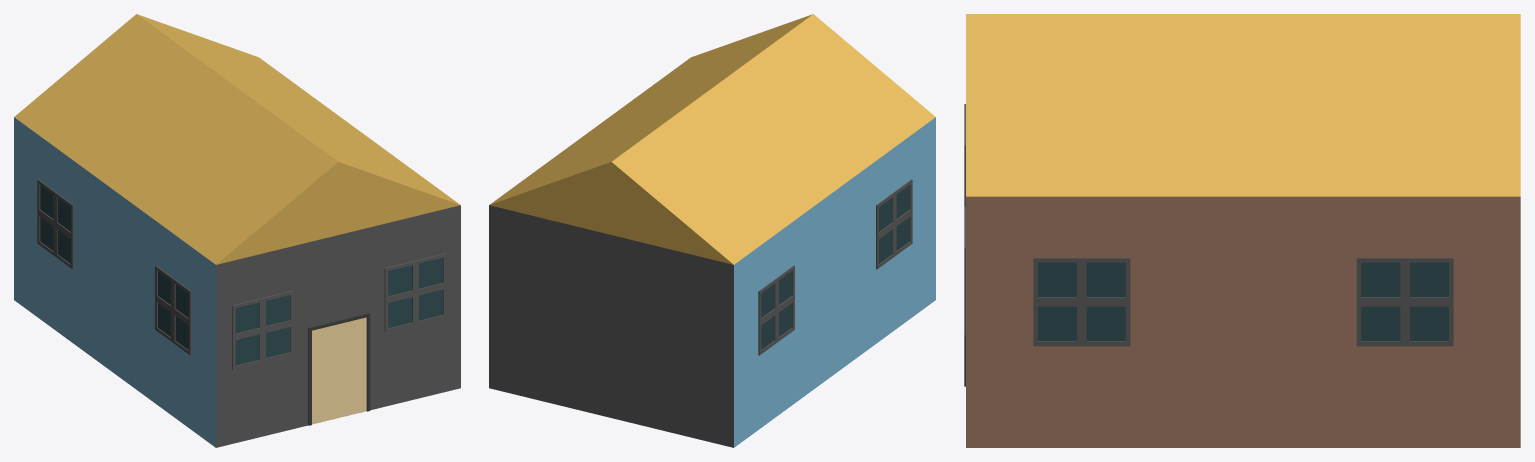
Rendered from House3_Model.fbx.
The picture shows the model from 3 angles, left to right: view 1: azimuth 30°, elevation 25°; view 2: azimuth 150°, elevation 25°; view 3: azimuth 270°, elevation 25°; orthographic projection. The views are drawn at different scales.
Parts seen in each view (by area): view 1: Roof.001, House_wall_Right.001, House_wall_front.001; view 2: Roof.001, House_wall_Left.001, House_wall_front.001; view 3: House_wall_back.001, Roof.001, House_wall_Right.001.
Part boxes in pixels (bbox=[...]): Roof.001: bbox=[14, 14, 460, 264]; House_wall_Right.001: bbox=[216, 205, 460, 447]; House_wall_front.001: bbox=[14, 117, 215, 447]; Roof.001: bbox=[489, 14, 935, 264]; House_wall_Left.001: bbox=[489, 205, 733, 447]; House_wall_front.001: bbox=[734, 117, 935, 447]; House_wall_back.001: bbox=[966, 196, 1520, 447]; Roof.001: bbox=[966, 14, 1520, 196]; House_wall_Right.001: bbox=[964, 104, 965, 386].
Size of the model in its own units: 485 by 480 by 689.
